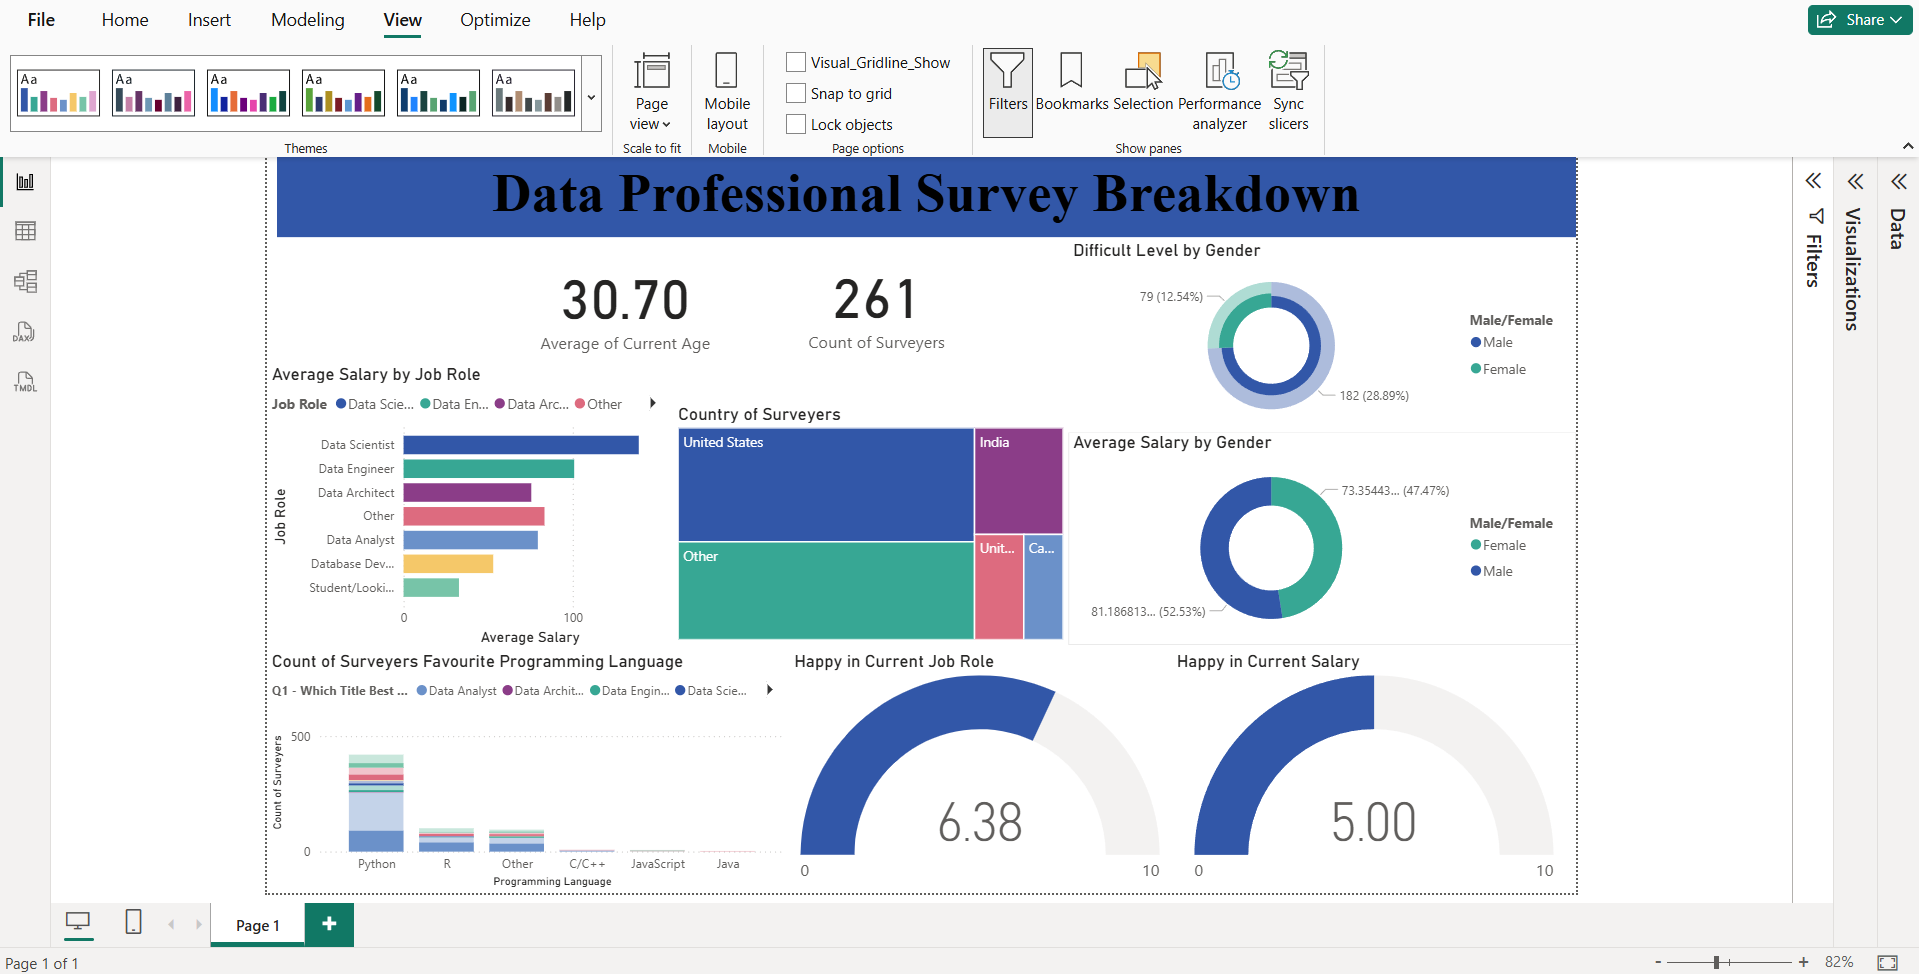

This screenshot's page, from the dashboard's own definition file:
{"tool":"powerbi","page":{"name":"Page 1","canvas":[1280,720],"ordinal":0},"visuals":[{"type":"textbox","box":[9.3,0,1270.9,78.7],"z":0},{"type":"card","fields":{"Values":["Count(Data Professional Survey.Unique ID)"]},"box":[493.7,80.3,205.2,123.4],"z":1},{"type":"card","fields":{"Values":["Avg(Data Professional Survey.Q10 - Current Age)"]},"box":[255.8,81.8,190.3,123.4],"z":2},{"type":"barChart","title":"Average Salary  by Job Role ","fields":{"Category":["Data Professional Survey.Q1 - Which Title Best Fits your Current Role?.1"],"Y":["Avg(Data Professional Survey.Average Salary)"],"Series":["Data Professional Survey.Q1 - Which Title Best Fits your Current Role?.1"]},"box":[0,202.2,397,281],"z":3},{"type":"columnChart","title":"Count of Surveyers Favourite Programming Language ","fields":{"Category":["Data Professional Survey.Q5 - Favorite Programming Language.1"],"Y":["CountNonNull(Data Professional Survey.Unique ID)"],"Series":["Data Professional Survey.Q1 - Which Title Best Fits your Current Role?.1"]},"box":[0,483.3,511.5,236.4],"z":4},{"type":"treemap","title":"Country of Surveyers","fields":{"Values":["CountNonNull(Data Professional Survey.Q11 - Which Country do you live in?.1)"],"Group":["Data Professional Survey.Q11 - Which Country do you live in?.1"]},"box":[397,240.9,386.6,236.4],"z":5},{"type":"gauge","title":"Happy in Current Job Role","fields":{"Y":["Avg(Data Professional Survey.Q6 - How Happy are you in your Current Position with the following? (Work/Life Balance))"],"MinValue":["Min(Data Professional Survey.Q6 - How Happy are you in your Current Position with the following? (Work/Life Balance))"],"MaxValue":["Max(Data Professional Survey.Q6 - How Happy are you in your Current Position with the following? (Work/Life Balance))"]},"box":[511.5,483.3,373.2,236.4],"z":6},{"type":"gauge","title":"Happy in Current Salary","fields":{"Y":["Avg(Data Professional Survey.Q6 - How Happy are you in your Current Position with the following? (Salary))"],"MinValue":["Min(Data Professional Survey.Q6 - How Happy are you in your Current Position with the following? (Salary))"],"MaxValue":["Max(Data Professional Survey.Q6 - How Happy are you in your Current Position with the following? (Salary))1"]},"box":[884.8,483.3,395.5,236.4],"z":7},{"type":"donutChart","title":"Average Salary by Gender","fields":{"Category":["Data Professional Survey.Q9 - Male/Female?"],"Y":["Avg(Data Professional Survey.Average Salary)"]},"box":[783.6,269.1,496.7,208.2],"z":8},{"type":"donutChart","title":"Difficult Level by Gender","fields":{"Category":["Data Professional Survey.Q9 - Male/Female?"],"Y":["CountNonNull(Data Professional Survey.Q7 - How difficult was it for you to break into Data?)"]},"box":[783.6,80.3,496.7,188.8],"z":9}]}

Visuals, with their boxes on the page's 1280x720 design canvas (x1, y1, x2, y2). These are canvas units, not pixel positions in the 1919x974 screenshot, which may show the page scaled, cropped or inside an application window:
textbox: <box>9,0,1280,79</box>
card - Count(Data Professional Survey.Unique ID): <box>494,80,699,204</box>
card - Avg(Data Professional Survey.Q10 - Current Age): <box>256,82,446,205</box>
"Average Salary  by Job Role " barChart: <box>0,202,397,483</box>
"Count of Surveyers Favourite Programming Language " columnChart: <box>0,483,512,720</box>
"Country of Surveyers" treemap: <box>397,241,784,477</box>
"Happy in Current Job Role" gauge: <box>512,483,885,720</box>
"Happy in Current Salary" gauge: <box>885,483,1280,720</box>
"Average Salary by Gender" donutChart: <box>784,269,1280,477</box>
"Difficult Level by Gender" donutChart: <box>784,80,1280,269</box>
